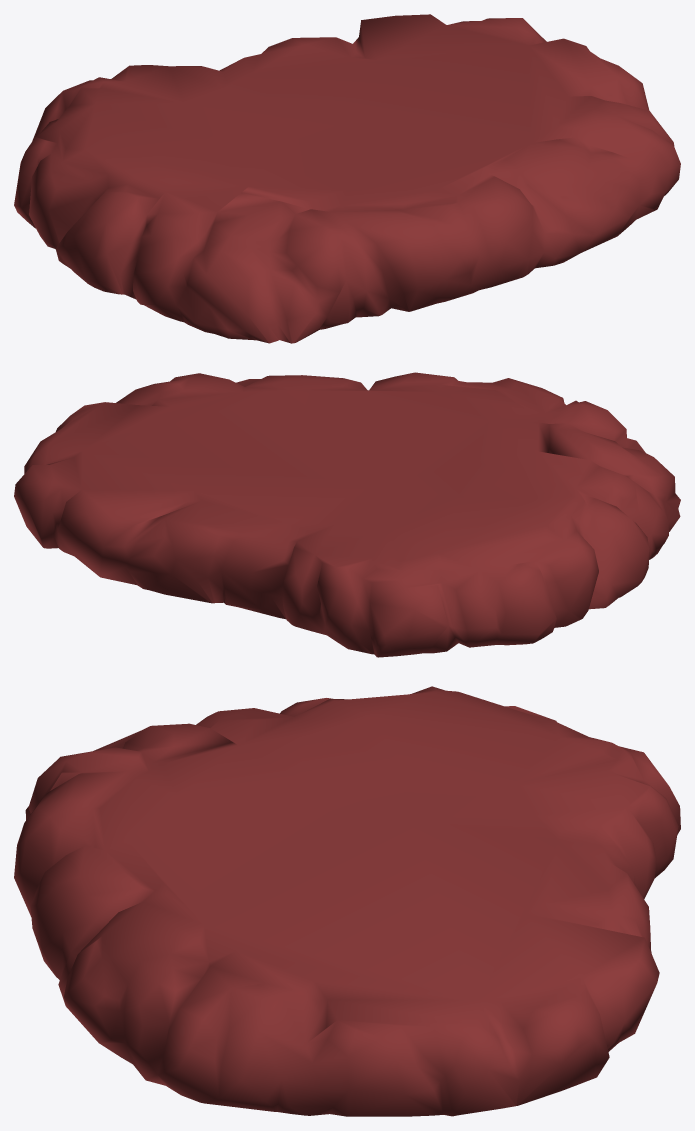
The model's file is SM_island_03.fbx.
3 renders of one model, top to bottom at view 1: azimuth 30°, elevation 25°; view 2: azimuth 150°, elevation 25°; view 3: azimuth 270°, elevation 25°, orthographic. The views are drawn at different scales.
Parts seen in each view (by area): view 1: island_03; view 2: island_03; view 3: island_03.
Boxes of the visible parts, box(x1,y1,x2,y2) form: island_03: box(14, 14, 680, 343); island_03: box(14, 372, 680, 657); island_03: box(14, 686, 680, 1116).
Bounding box in the file's own units: 2654 × 390 × 2120.
